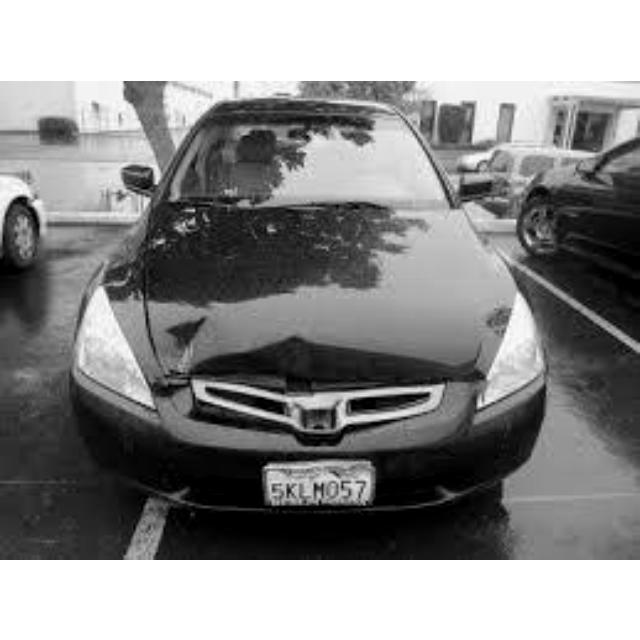bonnet-dent: (153, 246, 363, 384)
